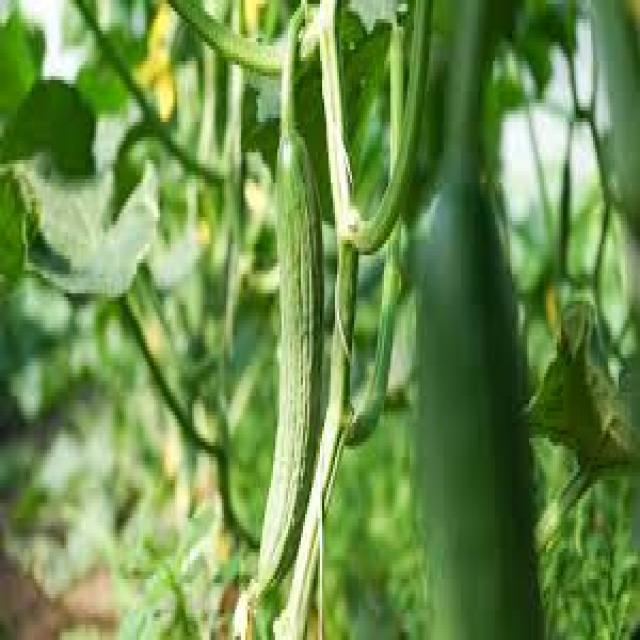organic waste: (412, 153, 542, 636), (256, 110, 320, 606), (348, 23, 403, 427), (591, 0, 638, 240)
